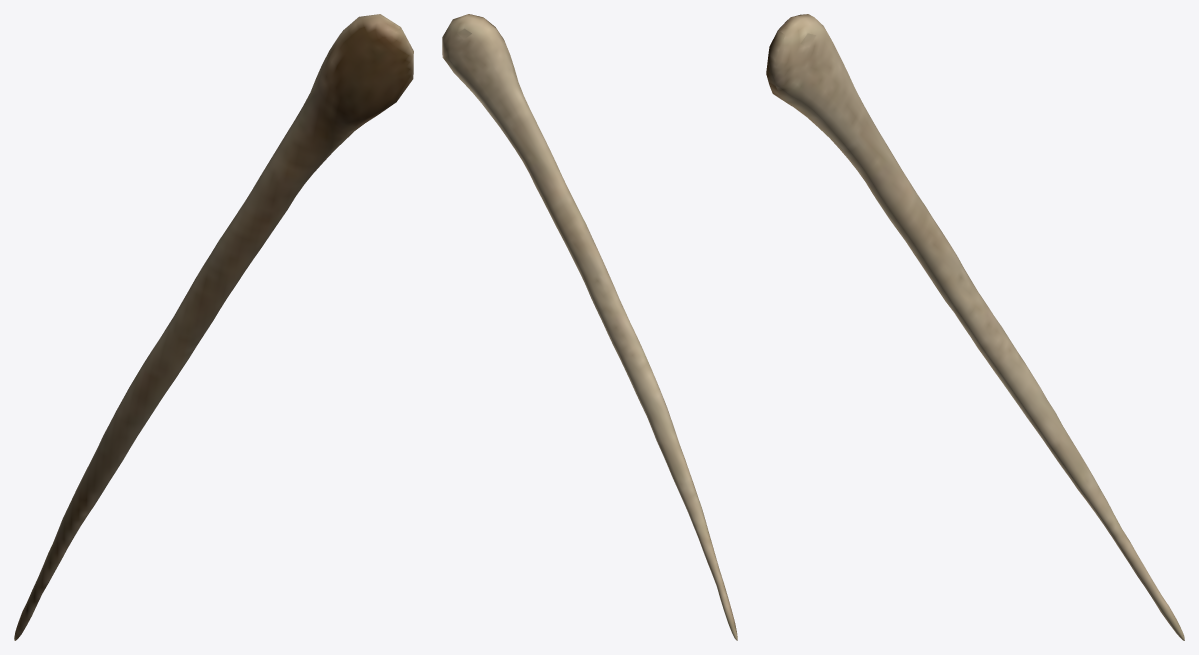
The model's file is Fibula.glb.
3 renders of one model, left to right at view 1: azimuth 30°, elevation 25°; view 2: azimuth 210°, elevation 25°; view 3: azimuth 270°, elevation 25°, orthographic. The views are drawn at different scales.
Parts seen in each view (by area): view 1: L_Bck_Fibula; view 2: L_Bck_Fibula; view 3: L_Bck_Fibula.
Boxes of the visible parts, bbox=[...] form: L_Bck_Fibula: bbox=[14, 14, 413, 640]; L_Bck_Fibula: bbox=[442, 14, 737, 640]; L_Bck_Fibula: bbox=[766, 14, 1184, 640].
Bounding box in the file's own units: 0.0518 × 0.1946 × 0.1058.
Materials: 1 (1 with a texture image).
